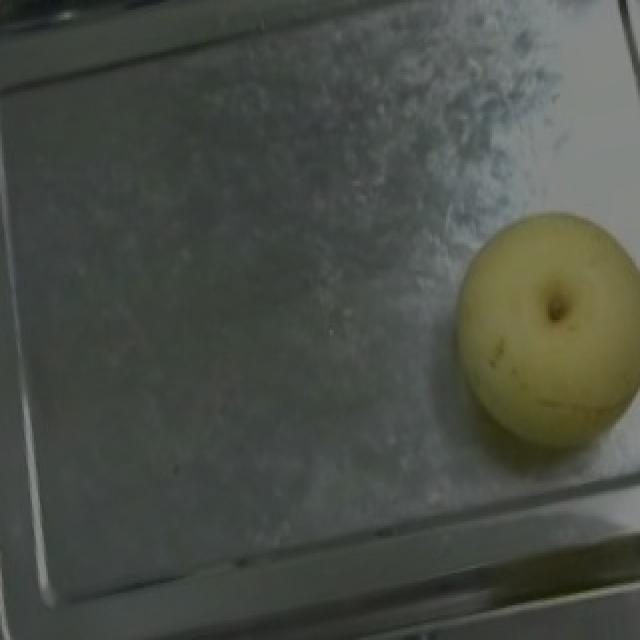Fruit: (416, 181, 640, 476)
